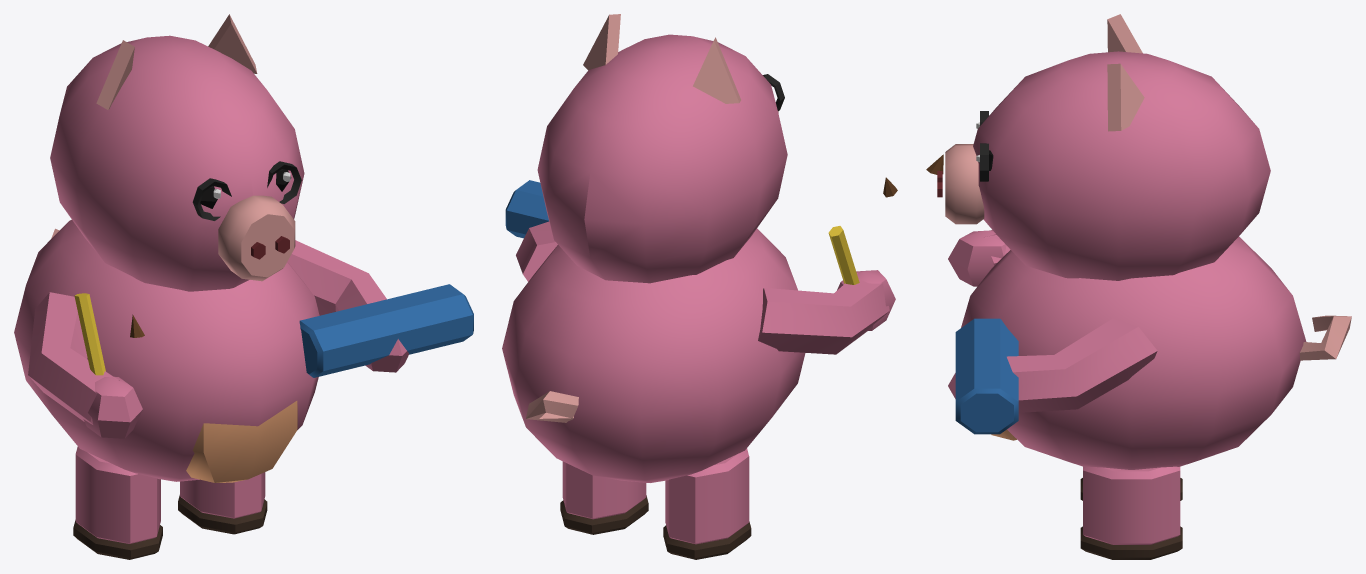
Rendered from 171_cochon_architecte.fbx.
3 renders of one model, left to right at view 1: azimuth 30°, elevation 25°; view 2: azimuth 150°, elevation 25°; view 3: azimuth 270°, elevation 25°, orthographic. The views are drawn at different scales.
Visible parts, largest first — view 1: Corps, Accessoire; view 2: Corps, Accessoire; view 3: Corps, Accessoire.
Boxes of the visible parts, bbox=[...] form: Corps: bbox=[14, 14, 408, 559]; Accessoire: bbox=[74, 161, 473, 377]; Corps: bbox=[502, 14, 895, 559]; Accessoire: bbox=[505, 74, 897, 284]; Corps: bbox=[937, 14, 1351, 559]; Accessoire: bbox=[926, 111, 1018, 434].
Size of the model in its own units: 0.56 by 0.7 by 0.56.
Materials: 1 (1 with a texture image).
